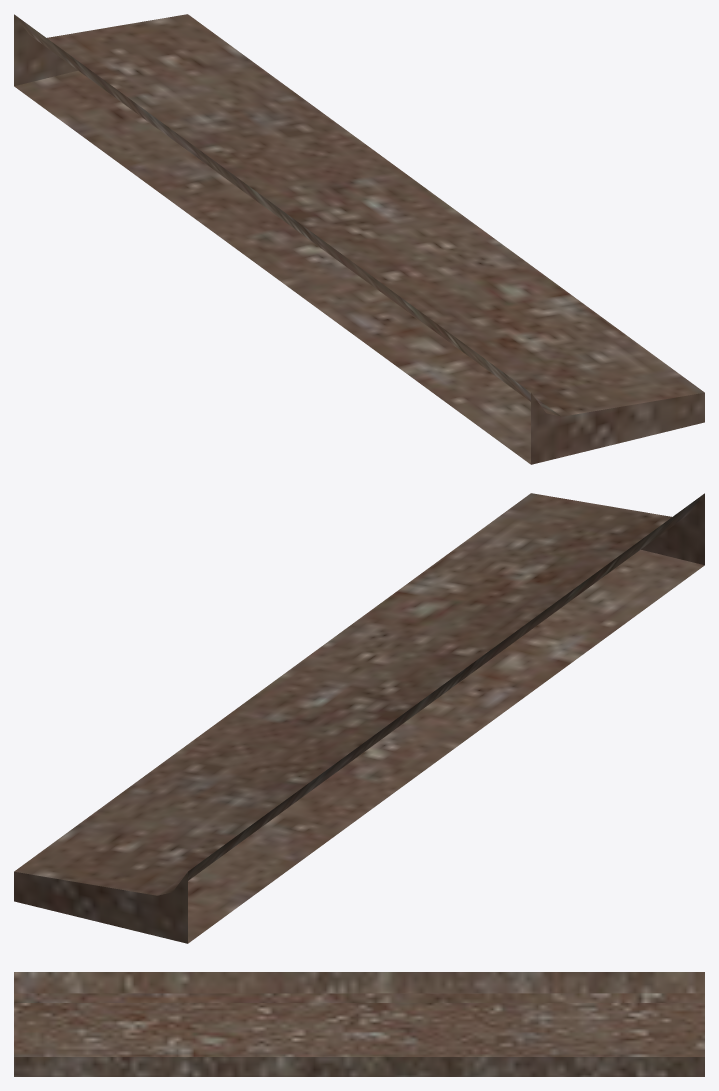
The model's file is WindowTop_L.FBX.
The picture shows the model from 3 angles, top to bottom: view 1: azimuth 30°, elevation 25°; view 2: azimuth 150°, elevation 25°; view 3: azimuth 270°, elevation 25°; orthographic projection. The views are drawn at different scales.
Parts seen in each view (by area): view 1: WindowTop_L; view 2: WindowTop_L; view 3: WindowTop_L.
Part boxes in pixels (x1,y1,x2,y2): WindowTop_L: [14, 14, 704, 464]; WindowTop_L: [14, 493, 704, 943]; WindowTop_L: [14, 972, 704, 1076].
Size of the model in its own units: 80.93 by 32.1 by 417.
